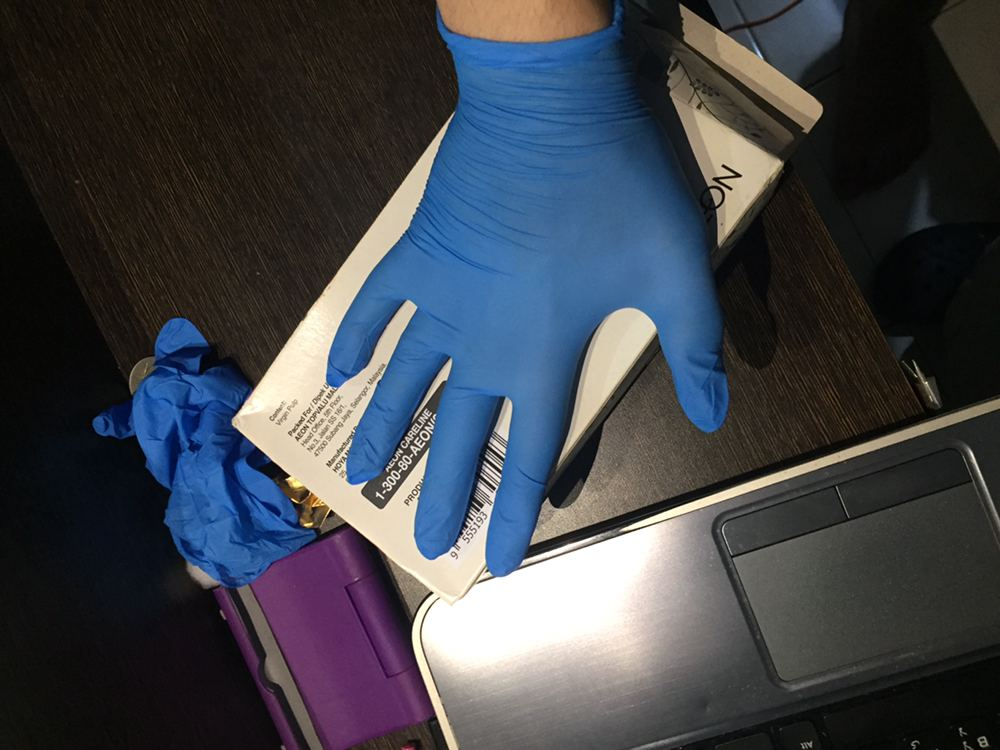glove: (268, 104, 735, 587)
